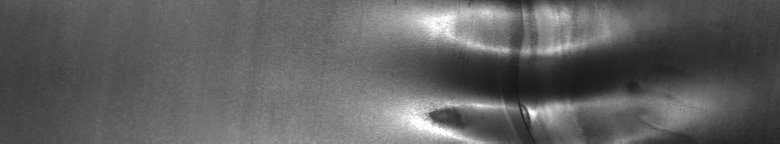ke: (424, 4, 690, 136)
